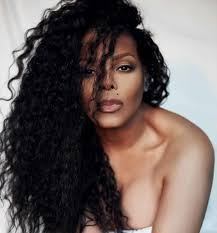black_female: (78, 28, 163, 135)
